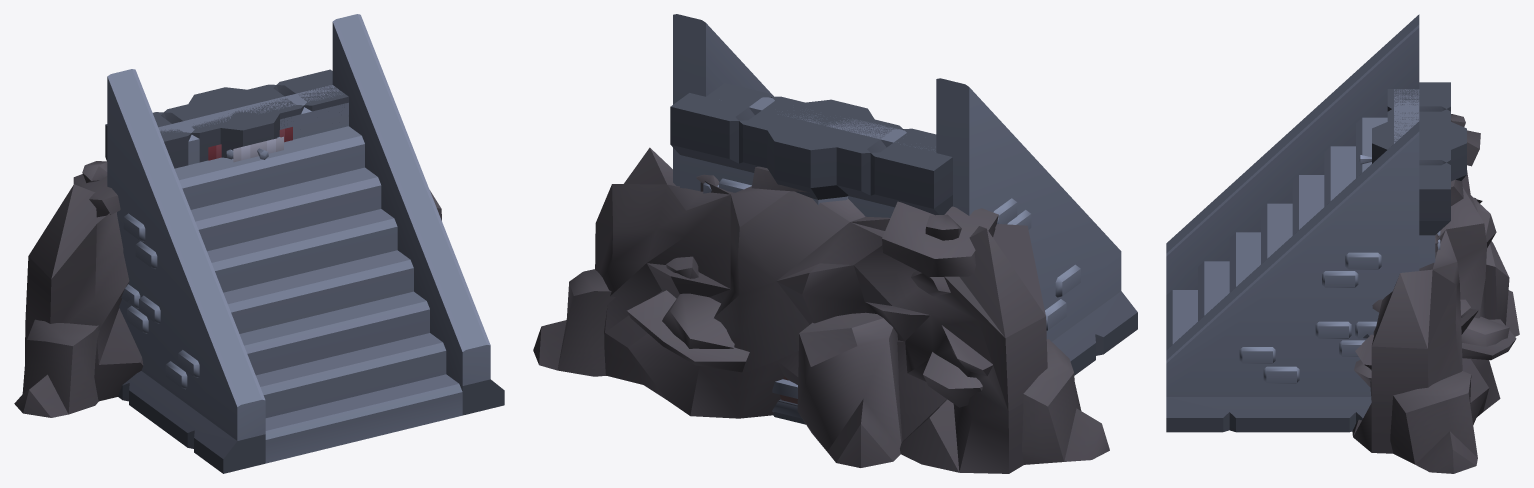
The model's file is env-catacumbas.glb.
The picture shows the model from 3 angles, left to right: view 1: azimuth 30°, elevation 25°; view 2: azimuth 150°, elevation 25°; view 3: azimuth 270°, elevation 25°; orthographic projection. The views are drawn at different scales.
Parts seen in each view (by area): view 1: stairs, rubble_large, wall, pillar, pillar_decorated; view 2: rubble_large, stairs, wall, pillar, wall_broken; view 3: stairs, rubble_large, wall, pillar.
Boxes of the visible parts, box(x1,y1,x2,y2) form: stairs: box(107, 14, 504, 473); rubble_large: box(14, 161, 441, 417); wall: box(106, 69, 348, 168); pillar: box(188, 87, 279, 158); pillar_decorated: box(233, 136, 283, 162); rubble_large: box(533, 147, 1109, 473); stairs: box(673, 14, 1137, 375); wall: box(670, 83, 952, 217); pillar: box(767, 99, 874, 424); wall_broken: box(671, 83, 950, 217); stairs: box(1166, 14, 1419, 432); rubble_large: box(1352, 114, 1519, 473); wall: box(1387, 82, 1450, 268); pillar: box(1372, 122, 1466, 181).
Bounding box in the file's own units: 8.13 × 5.1 × 5.59.
1 material, 1 textured.
